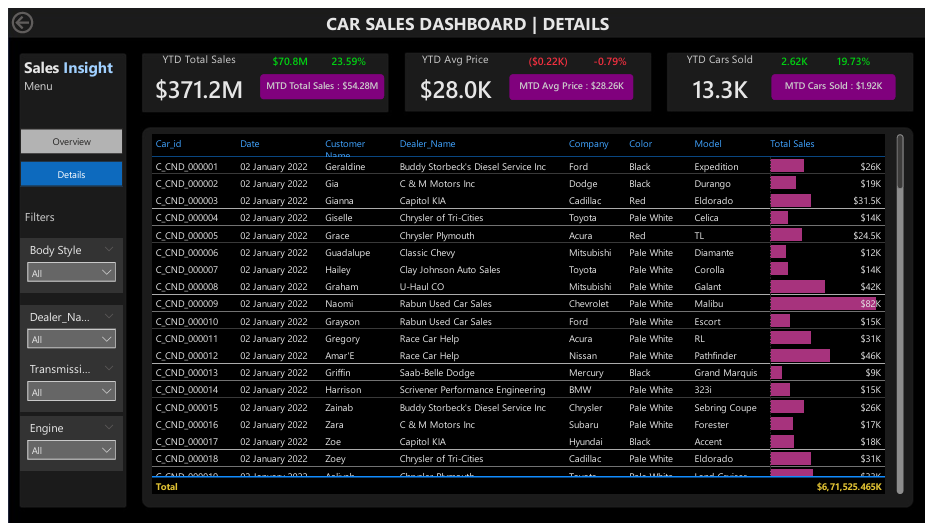

Layout of this report page (visuals, bound fields, positions):
{"tool":"powerbi","page":{"name":"Details","canvas":[1280,720],"ordinal":1},"visuals":[{"type":"card","title":"YTD Total Sales","fields":{"Values":["CAR DATASET.YTD Total Sales"]},"box":[180.9,61,171.1,82.6],"z":0},{"type":"card","fields":{"Values":["CAR DATASET.Sales Difference"]},"box":[340.2,61,108.2,31.5],"z":1000},{"type":"card","fields":{"Values":["CAR DATASET.YOY Sales Growth"]},"box":[426.7,61,98.3,31.5],"z":2000},{"type":"card","fields":{"Values":["CAR DATASET.MTD KPI"]},"box":[352,92.4,173,35],"z":3000},{"type":"card","title":"YTD Avg Price","fields":{"Values":["CAR DATASET.YTD Avg Price"]},"box":[538.8,61,171.1,82.6],"z":4000},{"type":"card","fields":{"Values":["CAR DATASET.Avg Price Diff"]},"box":[700,61,108.2,31.5],"z":5000},{"type":"card","fields":{"Values":["CAR DATASET.YoY Avg Price Growth"]},"box":[786.5,61,108.2,31.5],"z":6000},{"type":"card","fields":{"Values":["CAR DATASET.MTD Avg Price KPI"]},"box":[700,92.4,173,35.4],"z":7000},{"type":"card","title":"YTD Cars Sold","fields":{"Values":["CAR DATASET.YTD Cars Sold"]},"box":[908.5,61,171.1,82.6],"z":8000},{"type":"card","fields":{"Values":["CAR DATASET.Cars Sold Diff"]},"box":[1044.1,61,108.2,31.5],"z":9000},{"type":"card","fields":{"Values":["CAR DATASET.YOY Car Sold Growth"]},"box":[1126.7,61,108.2,31.5],"z":10000},{"type":"card","fields":{"Values":["CAR DATASET.MTD Cars Sold KPI"]},"box":[1065.8,92.4,173,35.4],"z":11000},{"type":"textbox","box":[438.5,0,456.2,45.2],"z":12000},{"type":"slicer","fields":{"Values":["CAR DATASET.Body Style"]},"box":[16.8,321.5,142.9,75.6],"z":13000},{"type":"slicer","fields":{"Values":["CAR DATASET.Dealer_Name"]},"box":[16.8,413.9,142.9,73.5],"z":14000},{"type":"slicer","fields":{"Values":["CAR DATASET.Transmission"]},"box":[16.8,487.5,142.9,75.6],"z":15000},{"type":"slicer","fields":{"Values":["CAR DATASET.Engine"]},"box":[16.8,569.4,142.9,75.6],"z":16000},{"type":"textbox","box":[17.7,275.3,82.6,47.2],"z":17000},{"type":"tableEx","fields":{"Values":["CAR DATASET.Car_id","CAR DATASET.Date","CAR DATASET.Customer Name","CAR DATASET.Dealer_Name","CAR DATASET.Company","CAR DATASET.Color","CAR DATASET.Model","CAR DATASET.Price ($)"]},"box":[194.7,171.1,1059.9,511.3],"z":18000},{"type":"actionButton","box":[0,0,100,40],"z":19000},{"type":"textbox","box":[16.8,60.9,142.9,48.3],"z":20000},{"type":"textbox","box":[16.8,92.5,149.2,35.7],"z":21000},{"type":"pageNavigator","box":[16.8,168.1,142.9,79.8],"z":22000}]}

Visuals, with their boxes on the page's 1280x720 design canvas (x1, y1, x2, y2). These are canvas units, not pixel positions in the 929x532 screenshot, which may show the page scaled, cropped or inside an application window:
"YTD Total Sales" card: <region>181, 61, 352, 144</region>
card - CAR DATASET.Sales Difference: <region>340, 61, 448, 92</region>
card - CAR DATASET.YOY Sales Growth: <region>427, 61, 525, 92</region>
card - CAR DATASET.MTD KPI: <region>352, 92, 525, 127</region>
"YTD Avg Price" card: <region>539, 61, 710, 144</region>
card - CAR DATASET.Avg Price Diff: <region>700, 61, 808, 92</region>
card - CAR DATASET.YoY Avg Price Growth: <region>786, 61, 895, 92</region>
card - CAR DATASET.MTD Avg Price KPI: <region>700, 92, 873, 128</region>
"YTD Cars Sold" card: <region>908, 61, 1080, 144</region>
card - CAR DATASET.Cars Sold Diff: <region>1044, 61, 1152, 92</region>
card - CAR DATASET.YOY Car Sold Growth: <region>1127, 61, 1235, 92</region>
card - CAR DATASET.MTD Cars Sold KPI: <region>1066, 92, 1239, 128</region>
textbox: <region>438, 0, 895, 45</region>
slicer - CAR DATASET.Body Style: <region>17, 322, 160, 397</region>
slicer - CAR DATASET.Dealer_Name: <region>17, 414, 160, 487</region>
slicer - CAR DATASET.Transmission: <region>17, 488, 160, 563</region>
slicer - CAR DATASET.Engine: <region>17, 569, 160, 645</region>
textbox: <region>18, 275, 100, 322</region>
tableEx - CAR DATASET.Car_id x CAR DATASET.Date: <region>195, 171, 1255, 682</region>
actionButton: <region>0, 0, 100, 40</region>
textbox: <region>17, 61, 160, 109</region>
textbox: <region>17, 92, 166, 128</region>
pageNavigator: <region>17, 168, 160, 248</region>
